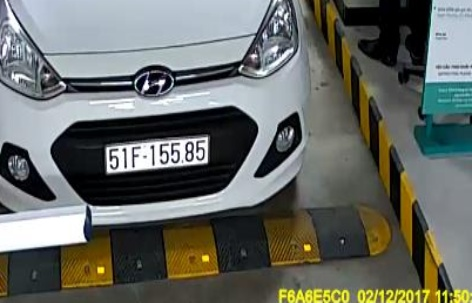plate: (99, 136, 214, 173)
